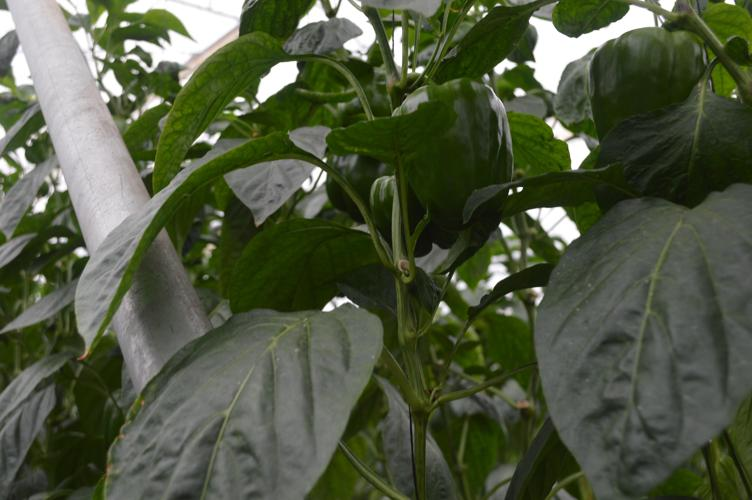BellPepper: (395, 86, 519, 224), (584, 28, 703, 135), (323, 95, 395, 222), (366, 174, 431, 254)
